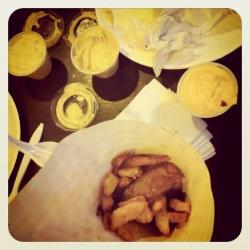chantilly: (68, 29, 122, 76)
fries: (86, 145, 196, 239)
